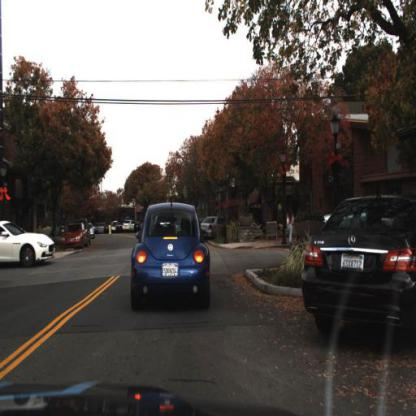car: (303, 196, 412, 344), (128, 196, 214, 314), (1, 215, 61, 271), (61, 222, 91, 252), (200, 211, 230, 241), (123, 220, 134, 234)
pedestrian: (286, 202, 296, 248)
